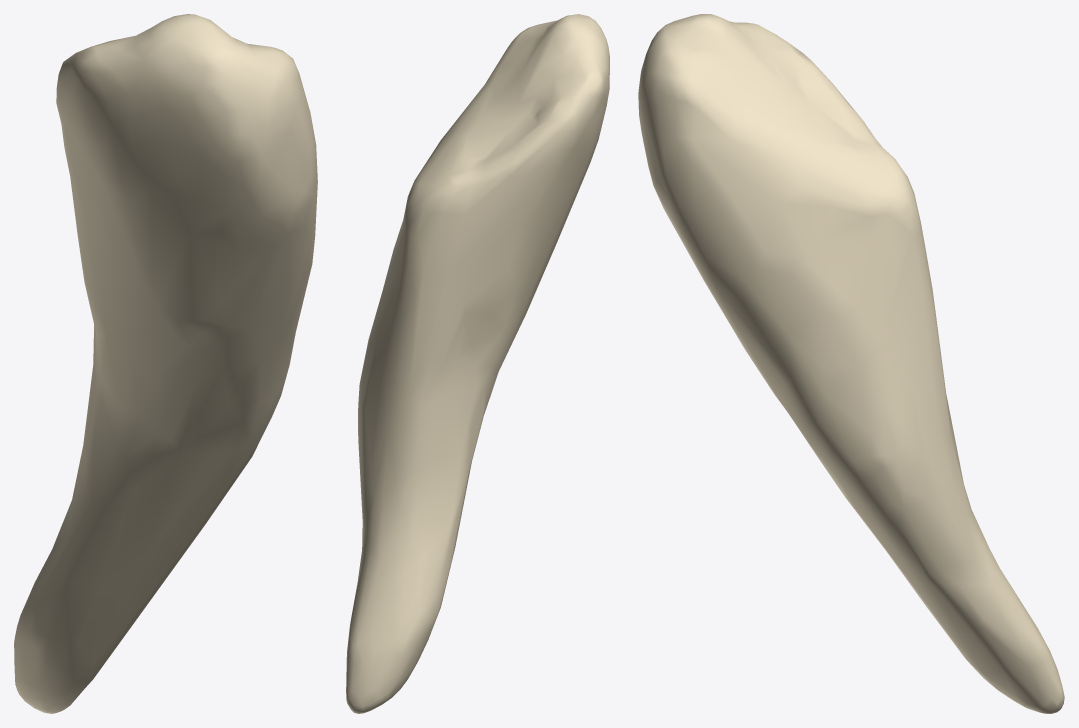
The model's file is tooth-43.glb.
3 renders of one model, left to right at view 1: azimuth 30°, elevation 25°; view 2: azimuth 150°, elevation 25°; view 3: azimuth 270°, elevation 25°, orthographic. The views are drawn at different scales.
Parts seen in each view (by area): view 1: tooth-43; view 2: tooth-43; view 3: tooth-43.
Boxes of the visible parts, x1=… form: tooth-43: x1=14, y1=14, x2=317, y2=713; tooth-43: x1=346, y1=14, x2=609, y2=713; tooth-43: x1=638, y1=14, x2=1064, y2=713.
Size of the model in its own units: 0.2156 by 0.6707 by 0.39.
